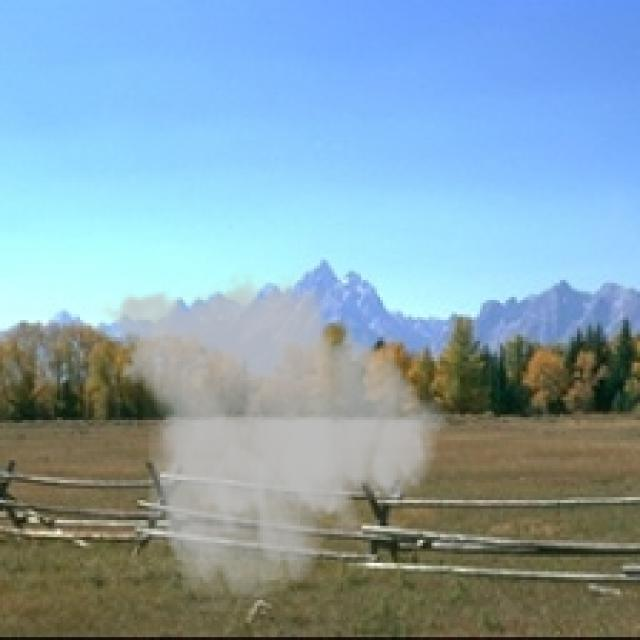smoke: (94, 268, 457, 612)
